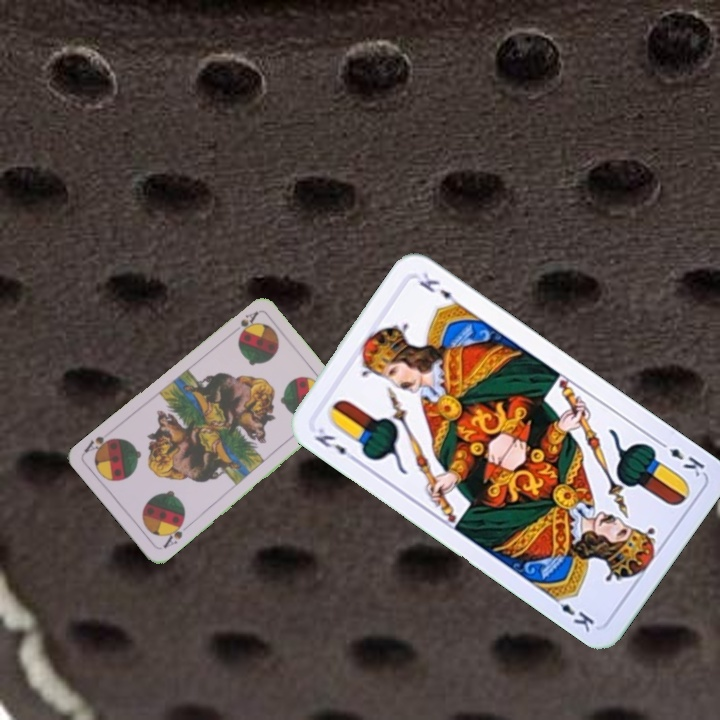EK: (654, 436, 708, 480), (310, 423, 360, 465)
SA: (226, 307, 261, 339), (159, 516, 187, 551)
